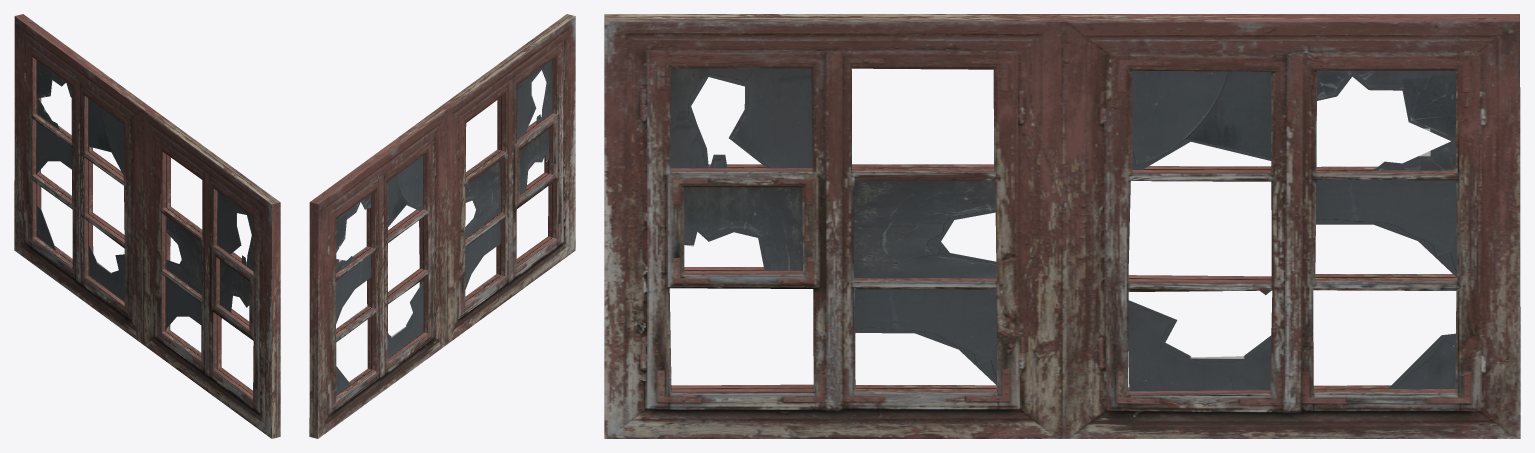
File: Windows_Porch_03.fbx
3 renders of one model, left to right at view 1: azimuth 30°, elevation 25°; view 2: azimuth 150°, elevation 25°; view 3: azimuth 270°, elevation 25°, orthographic. The views are drawn at different scales.
Visible parts, largest first — view 1: Windows_Porch_03, Windows_Porch_03glass (×9); view 2: Windows_Porch_03, Windows_Porch_03glass (×8); view 3: Windows_Porch_03, Windows_Porch_03glass (×9).
Boxes of the visible parts, <box> form: Windows_Porch_03: <box>14,14,280,438</box>; Windows_Porch_03glass (×9): <box>36,60,253,328</box>; Windows_Porch_03: <box>309,14,575,438</box>; Windows_Porch_03glass (×8): <box>336,60,552,357</box>; Windows_Porch_03: <box>604,14,1520,438</box>; Windows_Porch_03glass (×9): <box>670,68,1457,391</box>.
Bounding box in the file's own units: 5.01 × 258 × 130.
Materials: 2 (2 with a texture image).
